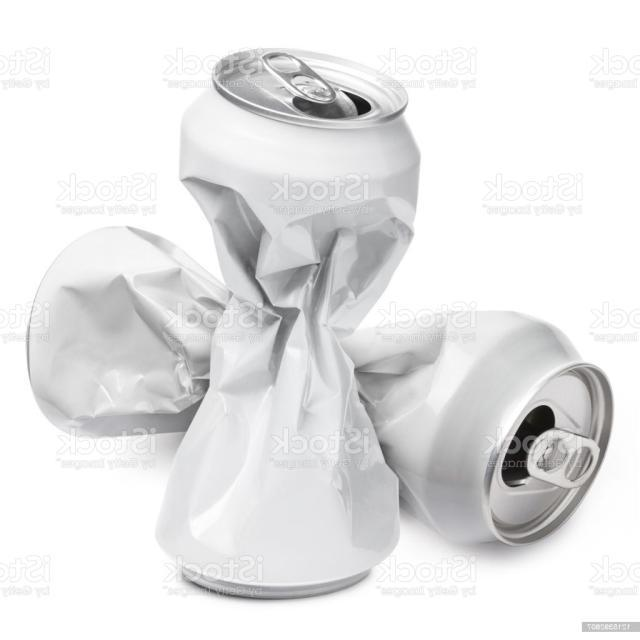can: (13, 218, 620, 560), (137, 18, 427, 600)
